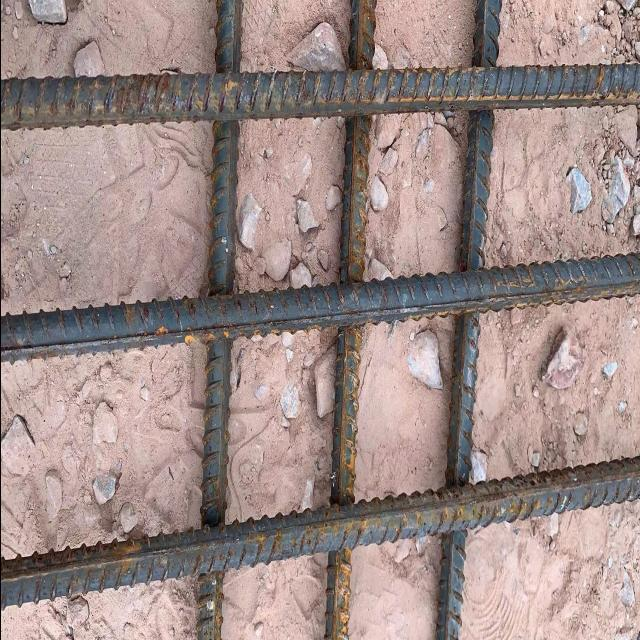ribbed bar: (1, 455, 640, 612), (1, 247, 640, 365), (434, 0, 502, 639), (1, 62, 640, 130), (323, 0, 379, 639), (193, 0, 244, 639)
